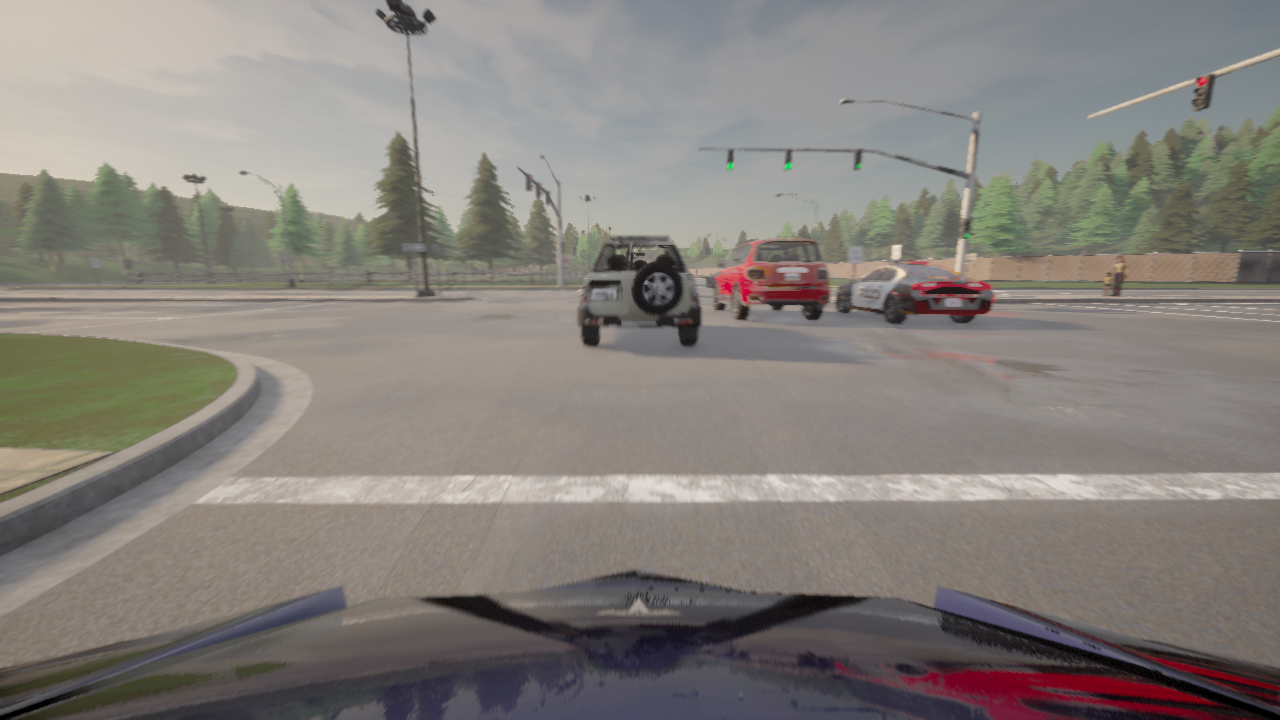cyclist: (0, 569, 1279, 719), (578, 236, 700, 345), (835, 260, 994, 323), (714, 238, 829, 320), (706, 272, 717, 286)
pedestrian: (1110, 256, 1126, 295), (1102, 273, 1112, 295)
